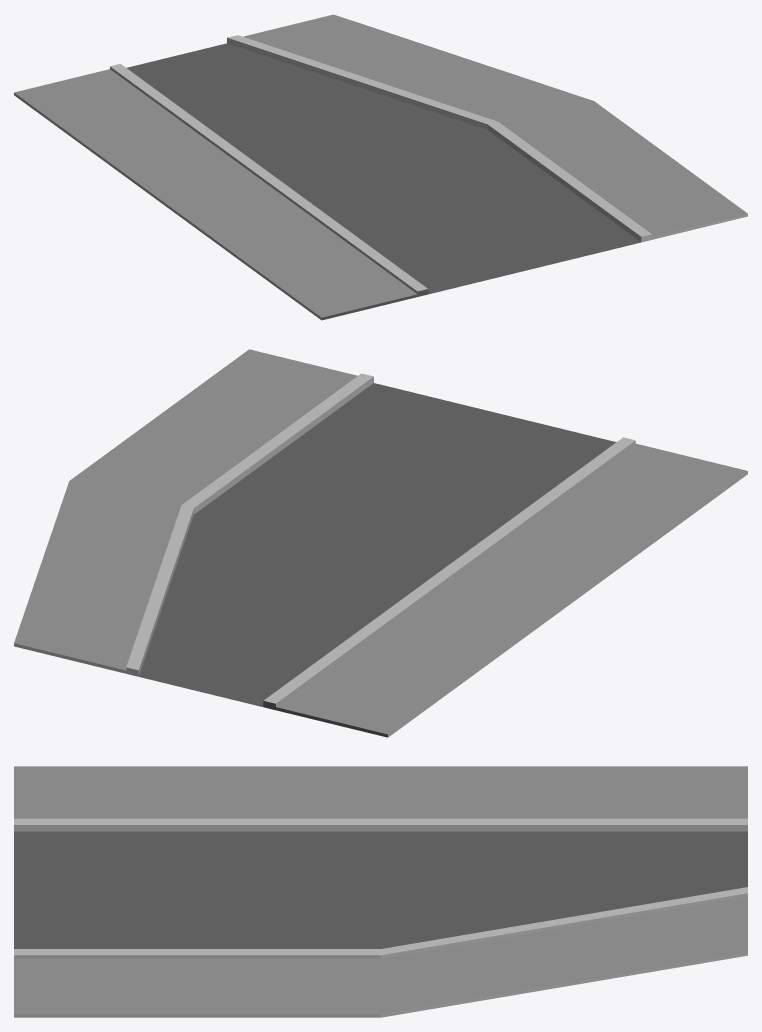
File: street_2to1_l.fbx
3 renders of one model, top to bottom at view 1: azimuth 30°, elevation 25°; view 2: azimuth 150°, elevation 25°; view 3: azimuth 270°, elevation 25°, orthographic. The views are drawn at different scales.
Parts seen in each view (by area): view 1: street_2to1_l; view 2: street_2to1_l; view 3: street_2to1_l.
Part boxes in pixels (x1,y1,x2,y2): street_2to1_l: (14,14,747,320); street_2to1_l: (14,349,747,737); street_2to1_l: (14,766,747,1017).
Bounding box in the file's own units: 16 × 0.2 × 20.
